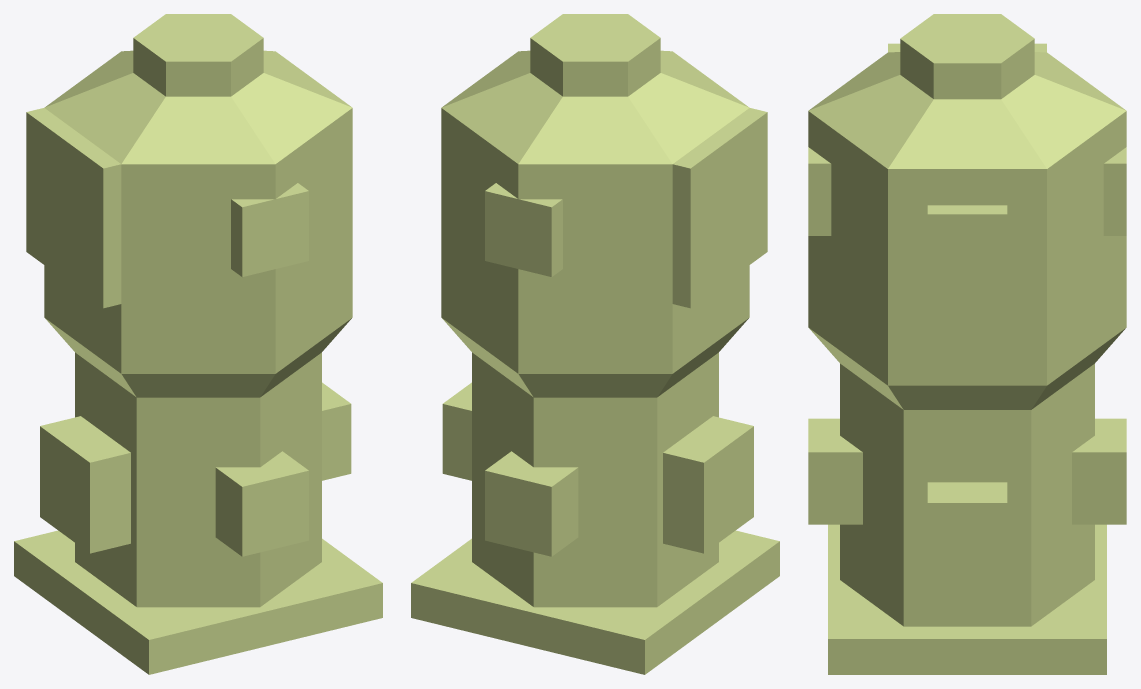
File: thaumatorium_block.obj
The picture shows the model from 3 angles, left to right: view 1: azimuth 30°, elevation 25°; view 2: azimuth 150°, elevation 25°; view 3: azimuth 270°, elevation 25°; orthographic projection. The views are drawn at different scales.
Visible parts, largest first — view 1: Thaumatorium; view 2: Thaumatorium; view 3: Thaumatorium.
Boxes of the visible parts, bbox=[...] form: Thaumatorium: bbox=[14, 14, 382, 674]; Thaumatorium: bbox=[411, 14, 779, 674]; Thaumatorium: bbox=[808, 14, 1126, 674].
Bounding box in the file's own units: 1 × 2 × 1.
